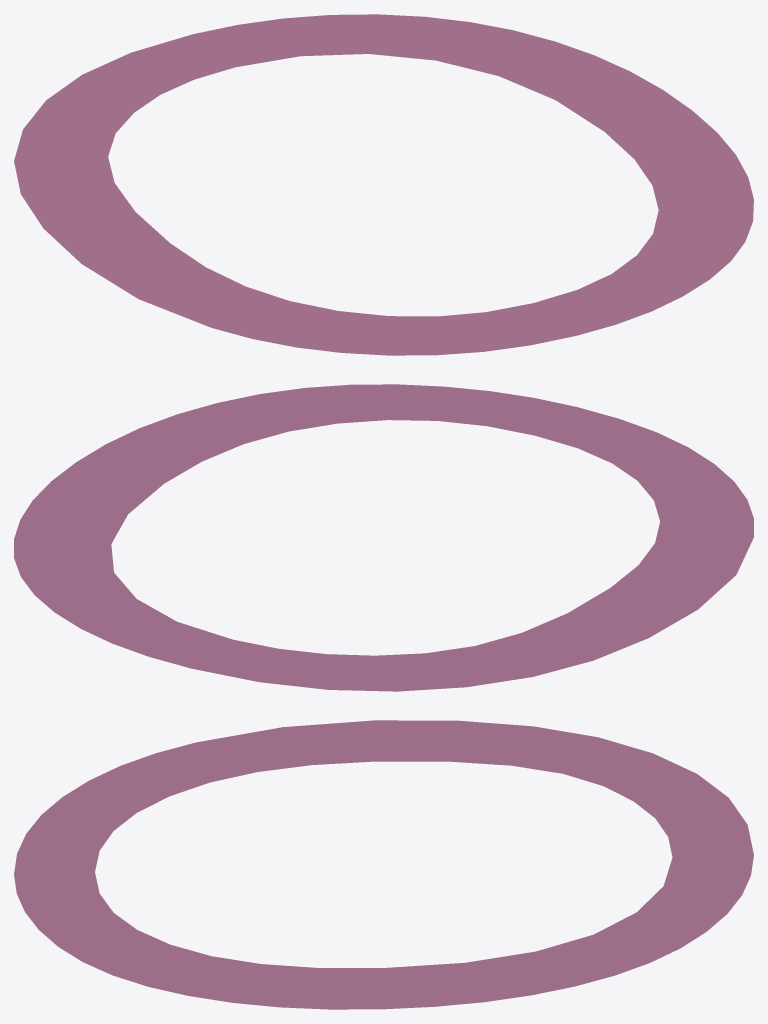
Rendered from original-6.obj.
3 views of the same model, one above another, from view 1: azimuth 30°, elevation 25°; view 2: azimuth 150°, elevation 25°; view 3: azimuth 270°, elevation 25° (orthographic). The views are drawn at different scales.
Visible parts, largest first — view 1: mesh5/mesh5-geometry#mesh5-geometry; view 2: mesh5/mesh5-geometry#mesh5-geometry; view 3: mesh5/mesh5-geometry#mesh5-geometry.
Part boxes in pixels (<box>): mesh5/mesh5-geometry#mesh5-geometry: <box>14,14,753,355</box>; mesh5/mesh5-geometry#mesh5-geometry: <box>14,384,753,691</box>; mesh5/mesh5-geometry#mesh5-geometry: <box>14,720,753,1009</box>.
Size of the model in its own units: 0.0341 by 0.00108 by 0.0369.
